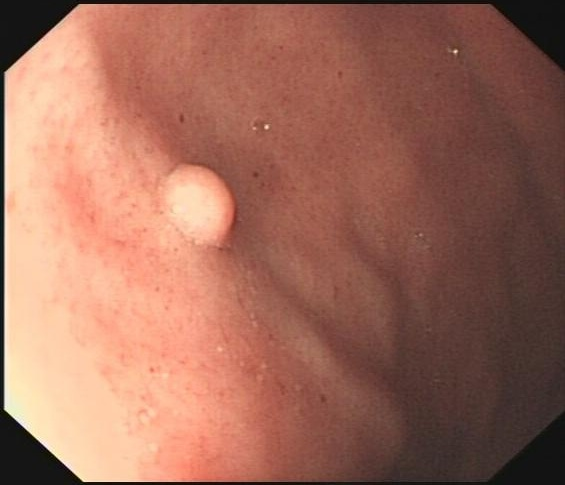Polyp: (144, 140, 265, 266)
